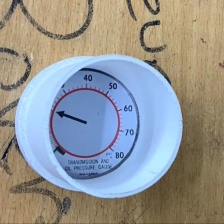gauge: (50, 68, 138, 179)
